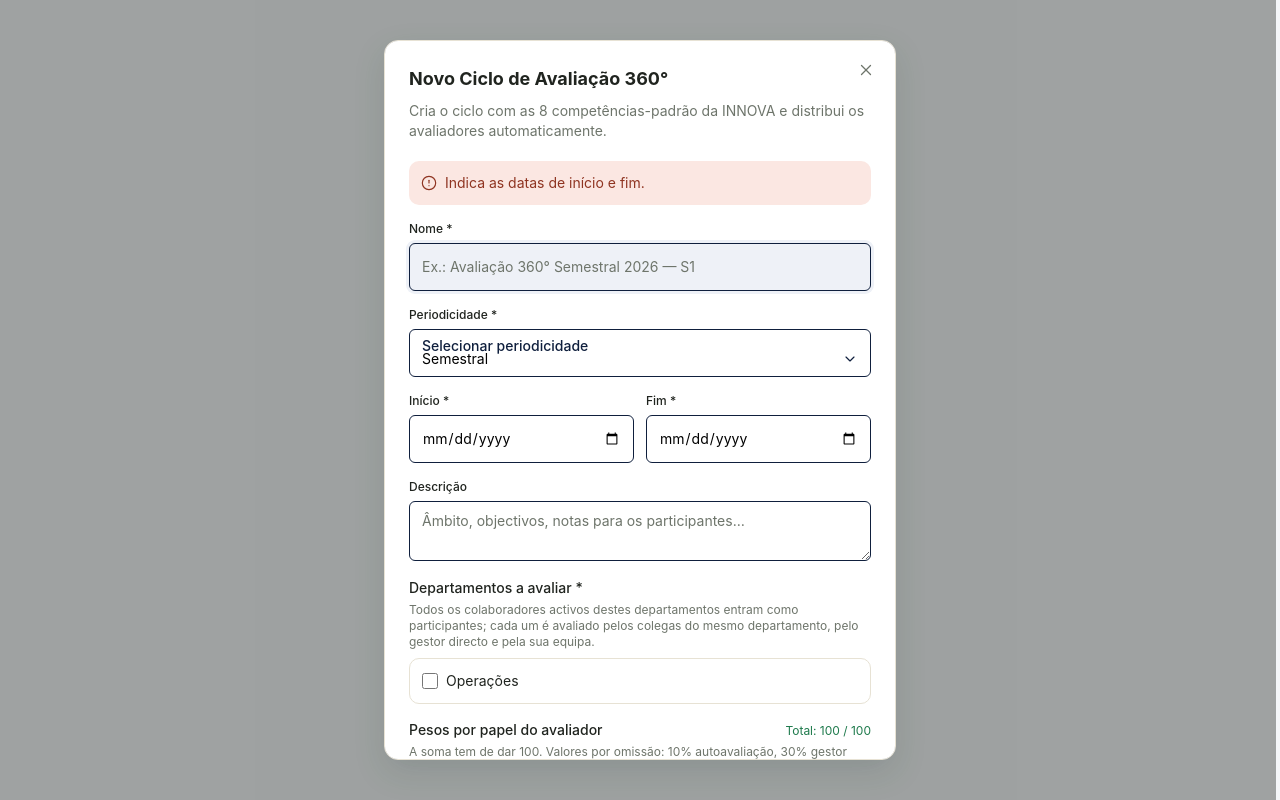
Test: CreateCycleModal (evaluation360) › não submete com "competências específicas" ligado mas nenhuma escolhida
The width and height of the screenshot is (1280, 800).
Type "Ciclo 2026 S1" into the field labelled "Nome *".
click(640, 267); type("Ciclo 2026 S1")  # box [409,243,871,291]
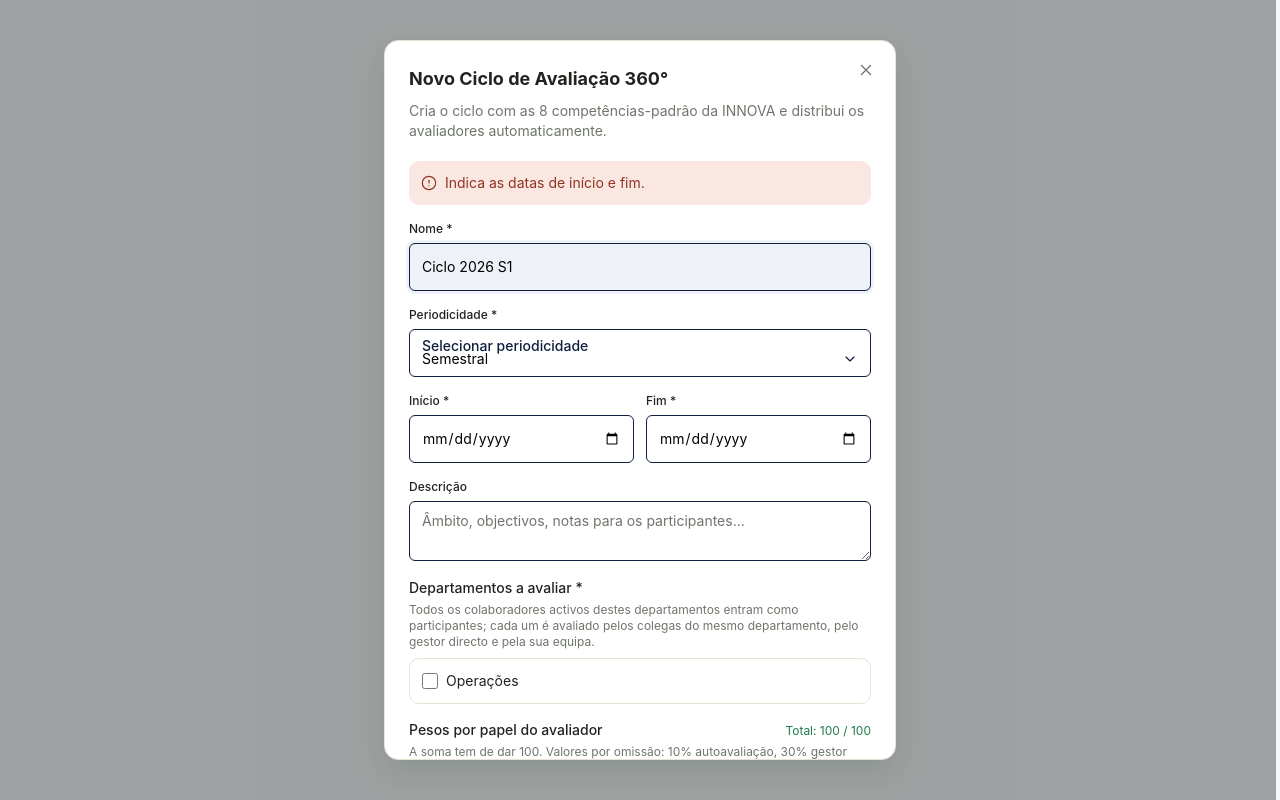
Type "2026-01-01" into the date field labelled "Início *".
click(522, 439); type("2026-01-01")  # box [409,415,634,463]
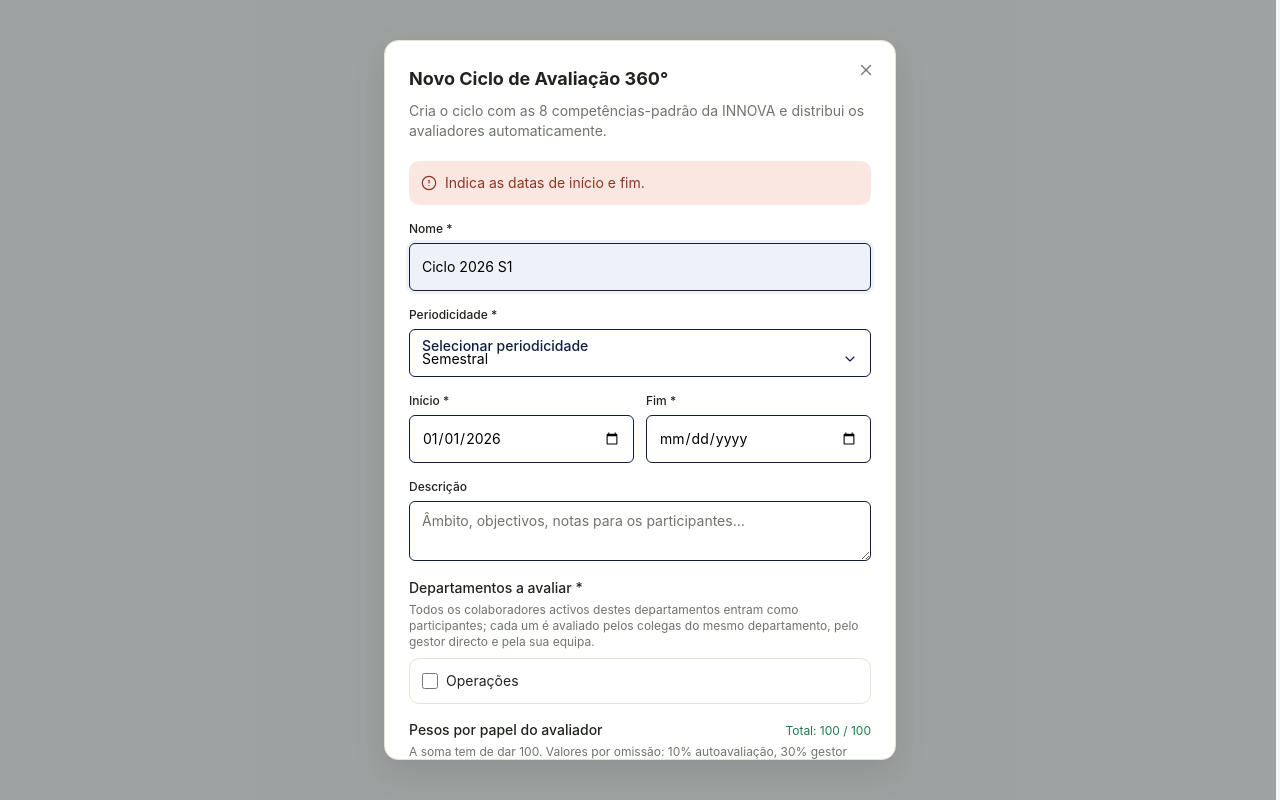
Type "2026-06-30" into the date field labelled "Fim *".
click(758, 439); type("2026-06-30")  # box [646,415,871,463]
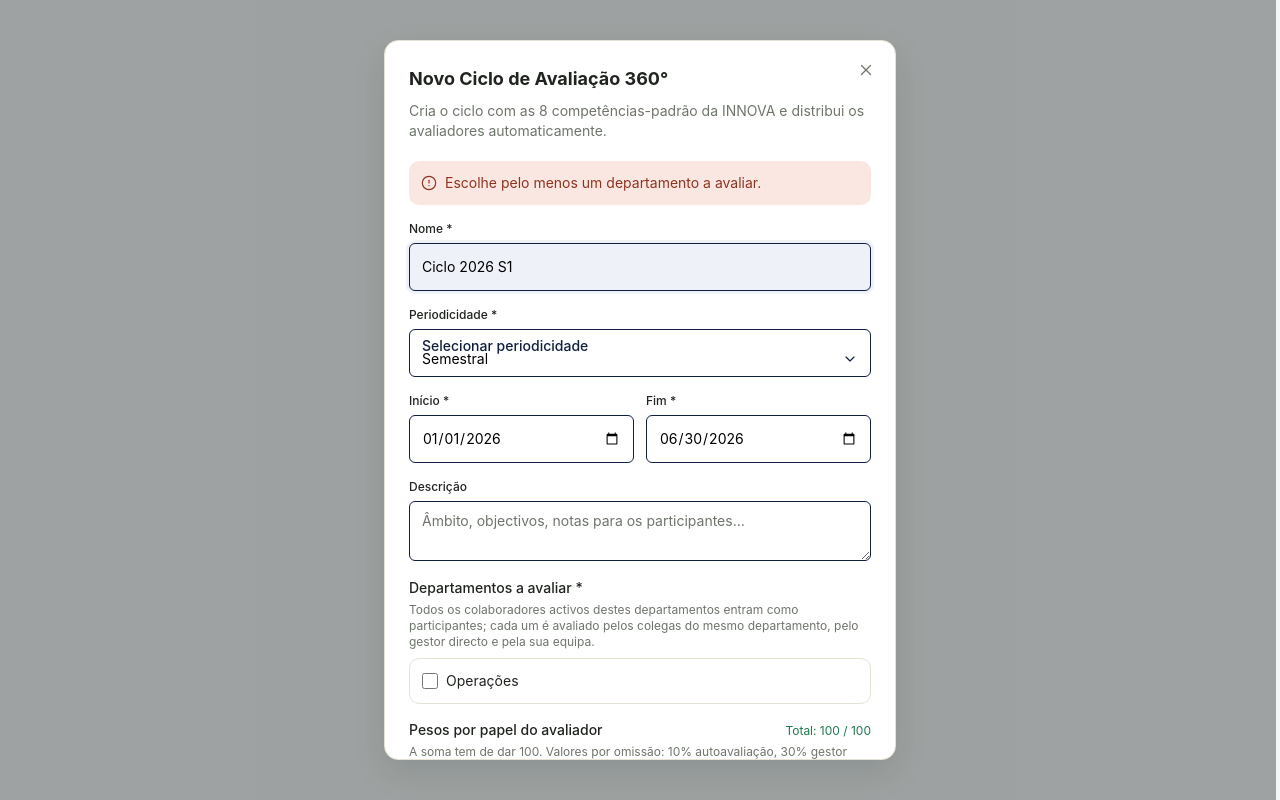
Click the checkbox labelled "Operações".
click(430, 681)  # box [422,673,438,689]
(page scrolled)
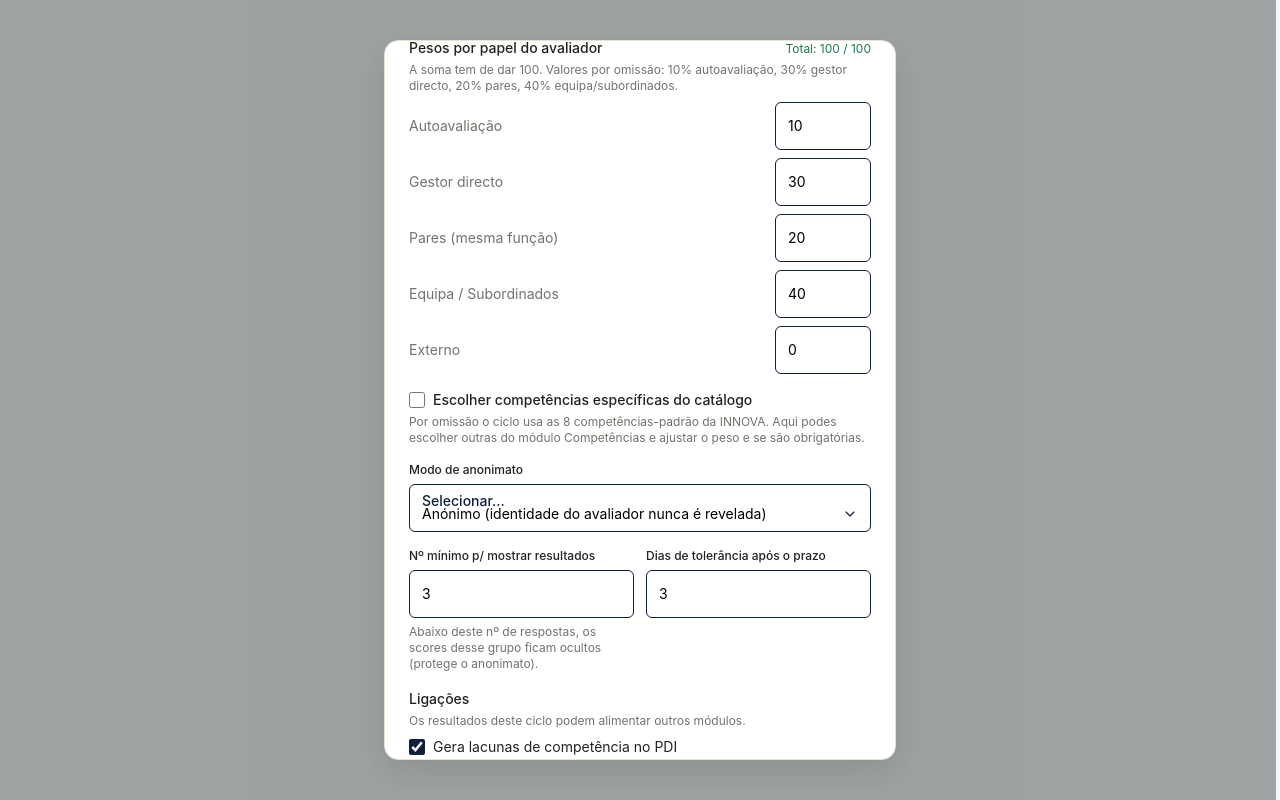
Click the checkbox labelled "Escolher competências específicas do catálogo".
click(417, 400)  # box [409,392,425,408]
(page scrolled)
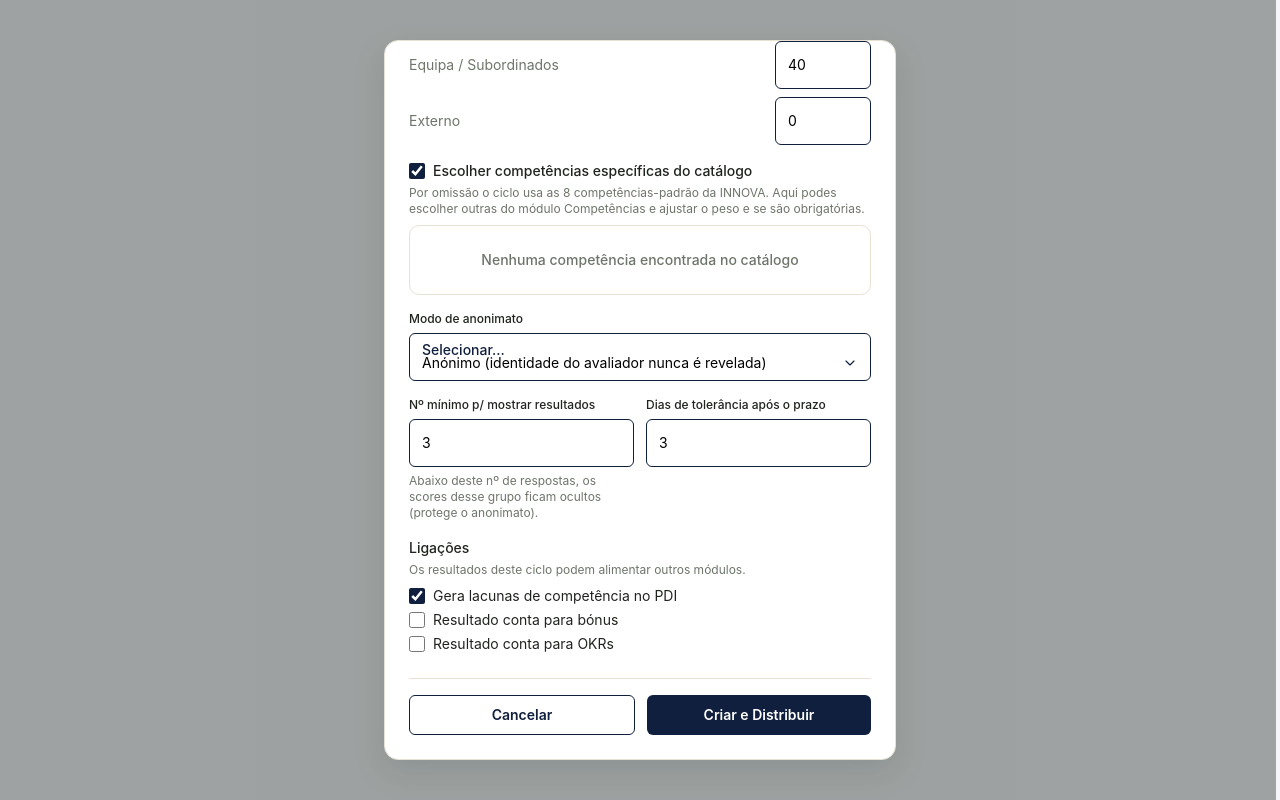
Click the button "Criar e Distribuir".
click(759, 715)  # box [647,695,871,735]
(page scrolled)
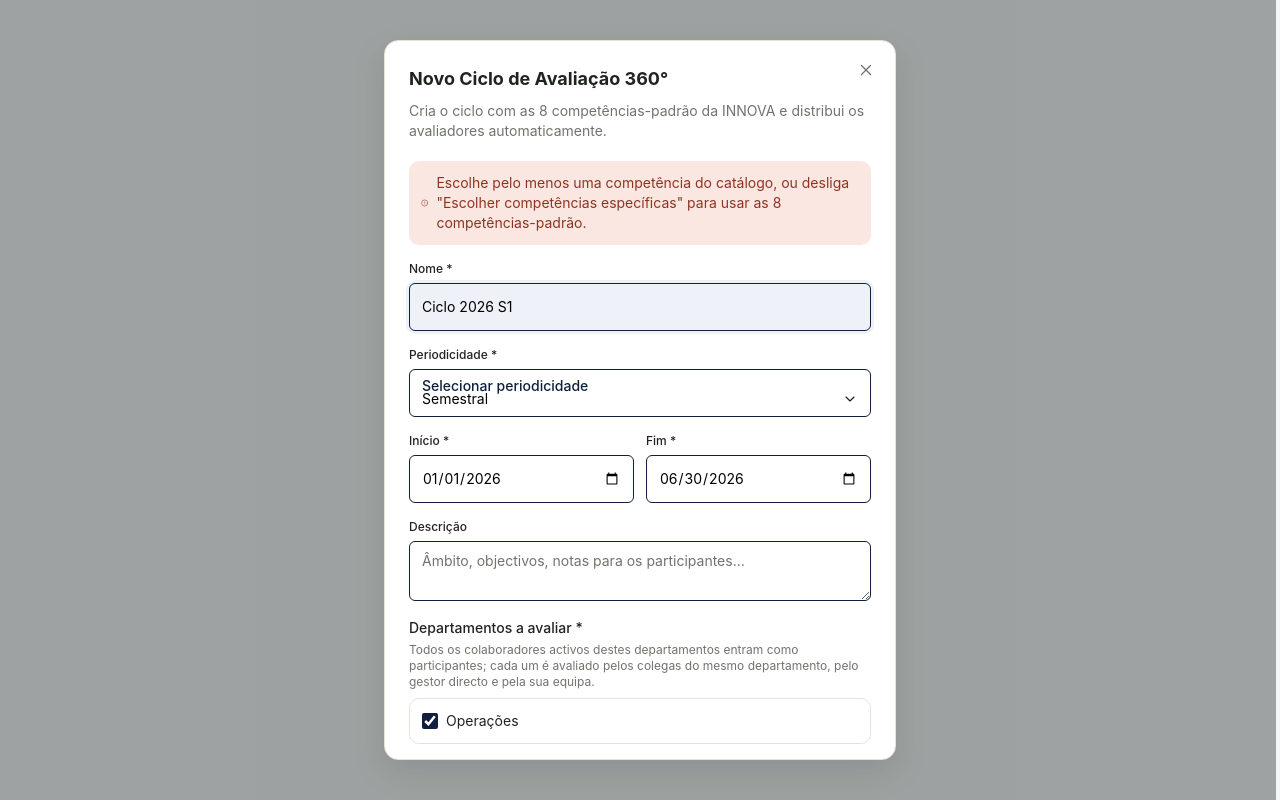
Expected: the text "Escolhe pelo menos uma competência" is shown, [436,174,849,231]
